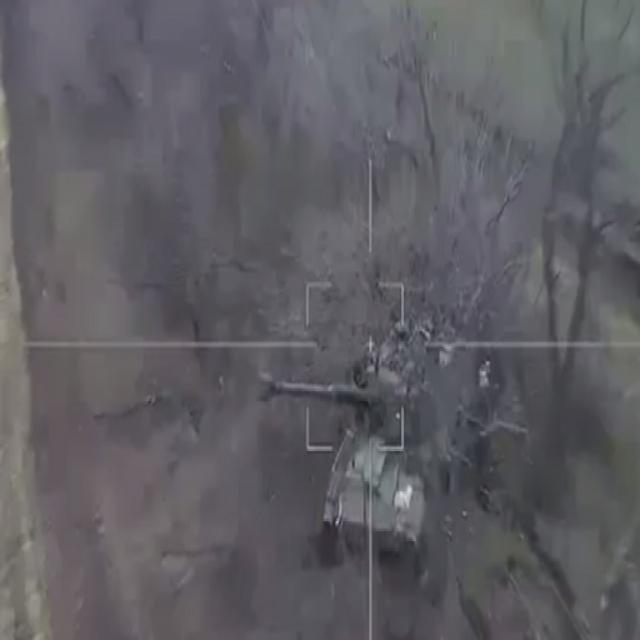ART: (245, 329, 444, 562)
